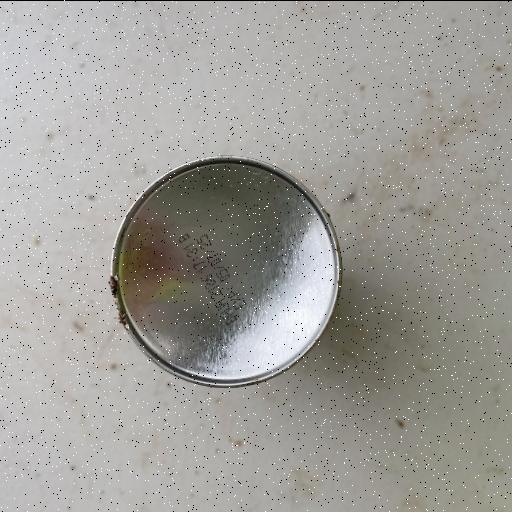Metal: (106, 152, 344, 390)
